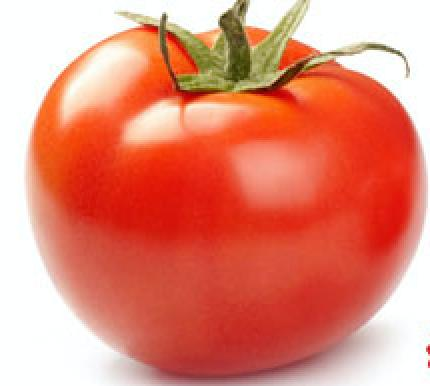tomato: (26, 27, 422, 370)
